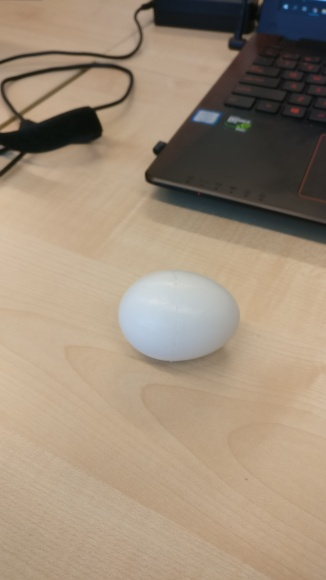egg: (117, 271, 242, 367)
